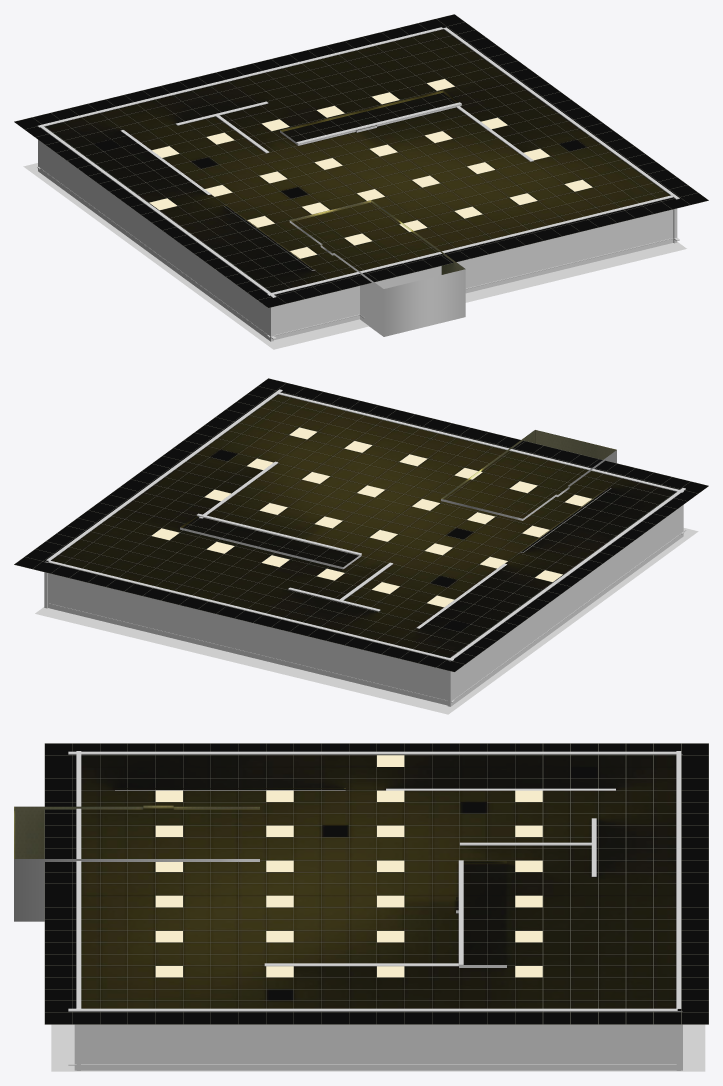
File: scene-web.glb
3 views of the same model, one above another, from view 1: azimuth 30°, elevation 25°; view 2: azimuth 150°, elevation 25°; view 3: azimuth 270°, elevation 25° (orthographic). The views are drawn at different scales.
Parts seen in each view (by area): view 1: WEB_Ceiling, COL_BackWall_Double_BR.028, WEB_Air_Vent.005, COL_Piece1, COL_Carpet_v1.001, WEB_Piece1, WEB_BackWall_Double_BR.028; view 2: WEB_Ceiling, COL_BackWall_Double_BR.028, WEB_Air_Vent.005, COL_Carpet_v1.001, WEB_Piece1, COL_Piece1; view 3: WEB_Ceiling, COL_BackWall_Double_BR.028, WEB_Air_Vent.005, COL_Carpet_v1.001, COL_Piece1, WEB_Piece1.
Part boxes in pixels (box(x1,y1,x2,y2)): WEB_Ceiling: box(14, 14, 708, 307); COL_BackWall_Double_BR.028: box(37, 27, 679, 341); WEB_Air_Vent.005: box(15, 14, 708, 307); COL_Piece1: box(289, 220, 465, 336); COL_Carpet_v1.001: box(23, 163, 686, 349); WEB_Piece1: box(290, 200, 465, 274); WEB_BackWall_Double_BR.028: box(38, 26, 458, 269); WEB_Ceiling: box(14, 378, 708, 671); COL_BackWall_Double_BR.028: box(44, 389, 686, 706); WEB_Air_Vent.005: box(14, 378, 708, 672); COL_Carpet_v1.001: box(35, 528, 698, 714); WEB_Piece1: box(441, 430, 616, 499); COL_Piece1: box(441, 450, 616, 520); WEB_Ceiling: box(45, 743, 708, 1024); COL_BackWall_Double_BR.028: box(68, 751, 682, 1070); WEB_Air_Vent.005: box(44, 743, 708, 1024); COL_Carpet_v1.001: box(51, 1024, 705, 1071); COL_Piece1: box(14, 859, 259, 921); WEB_Piece1: box(14, 805, 259, 858).
Bounding box in the file's own units: 21.89 × 2.3 × 22.9.
Materials: 61 (36 with a texture image).
